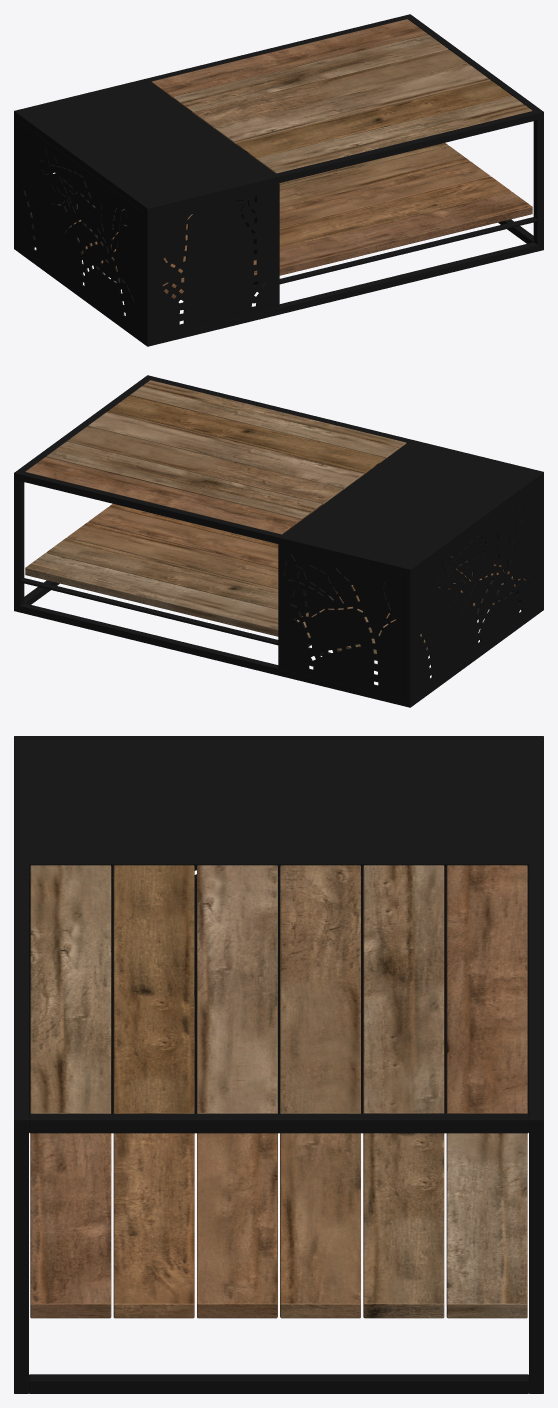
File: coffee-dustin.glb
3 views of the same model, one above another, from view 1: azimuth 30°, elevation 25°; view 2: azimuth 150°, elevation 25°; view 3: azimuth 270°, elevation 25° (orthographic). The views are drawn at different scales.
Bounding box in the file's own units: 1.2 × 0.4 × 0.7.
Materials: 13 (12 with a texture image).
